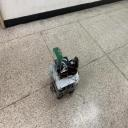cart: (50, 59, 80, 99)
